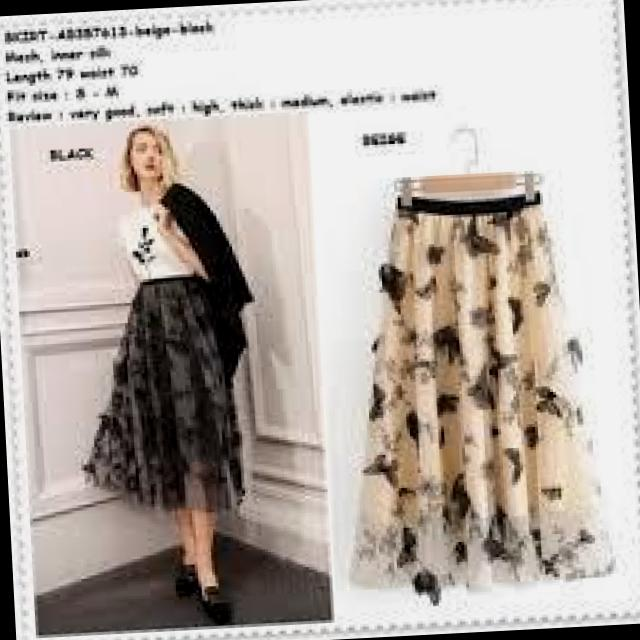skirt: (334, 174, 630, 608), (70, 269, 270, 529)
